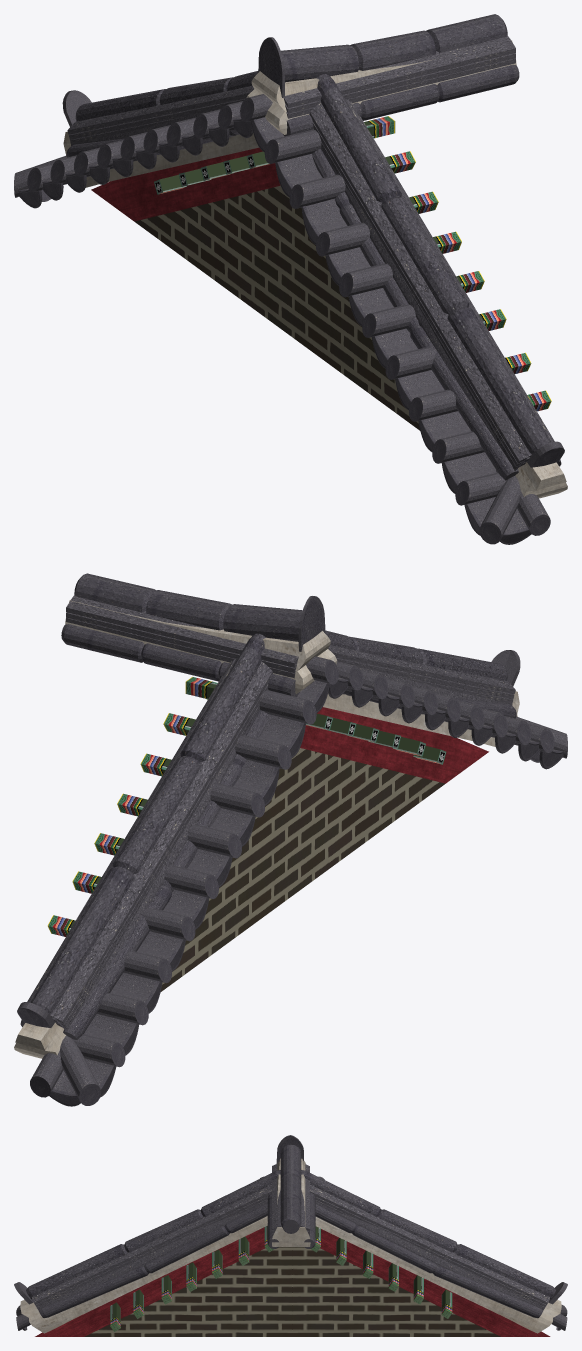
The model's file is SM_R_RoofOuter_5.fbx.
The picture shows the model from 3 angles, top to bottom: view 1: azimuth 30°, elevation 25°; view 2: azimuth 150°, elevation 25°; view 3: azimuth 270°, elevation 25°; orthographic projection. The views are drawn at different scales.
Parts seen in each view (by area): view 1: SM_R_RoofOuter_5; view 2: SM_R_RoofOuter_5; view 3: SM_R_RoofOuter_5.
Part boxes in pixels (x1,y1,x2,y2): SM_R_RoofOuter_5: (14, 14, 567, 544); SM_R_RoofOuter_5: (14, 573, 567, 1106); SM_R_RoofOuter_5: (14, 1135, 567, 1336).
Bounding box in the file's own units: 188 × 621 × 238.
4 materials, 4 textured.
